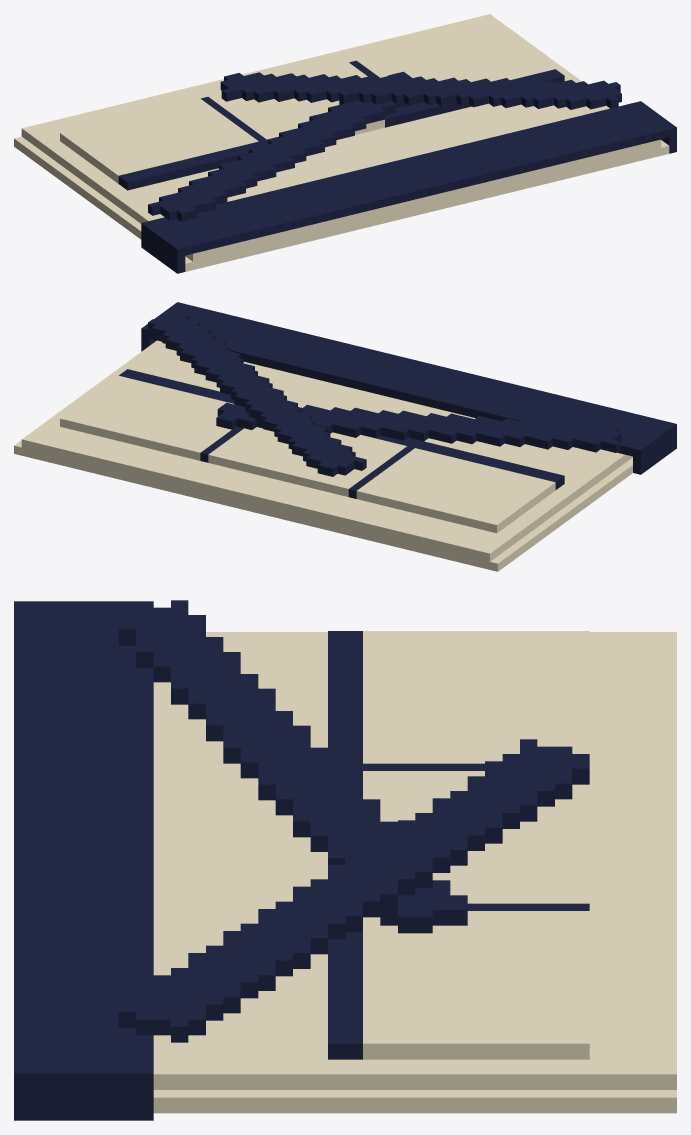
The model's file is waist_apron_short.glb.
3 renders of one model, top to bottom at view 1: azimuth 30°, elevation 25°; view 2: azimuth 150°, elevation 25°; view 3: azimuth 270°, elevation 25°, orthographic. The views are drawn at different scales.
Visible parts, largest first — view 1: waist_apron_short:compound; view 2: waist_apron_short:compound; view 3: waist_apron_short:compound.
Part boxes in pixels (x1,y1,x2,y2): waist_apron_short:compound: (14, 14, 676, 273); waist_apron_short:compound: (14, 302, 676, 571); waist_apron_short:compound: (14, 600, 676, 1120).
Size of the model in its own units: 0.256 by 0.02 by 0.152.
